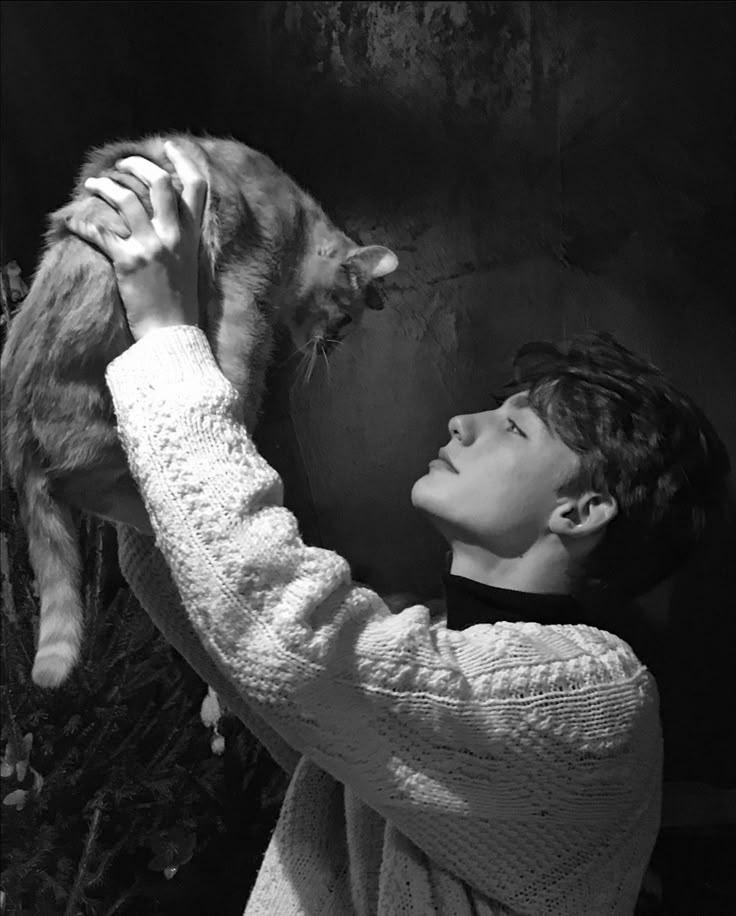kedo: (0, 135, 401, 685)
